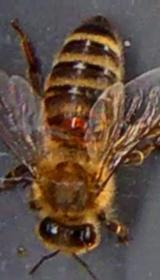varroa_mite: (60, 110, 90, 140)
